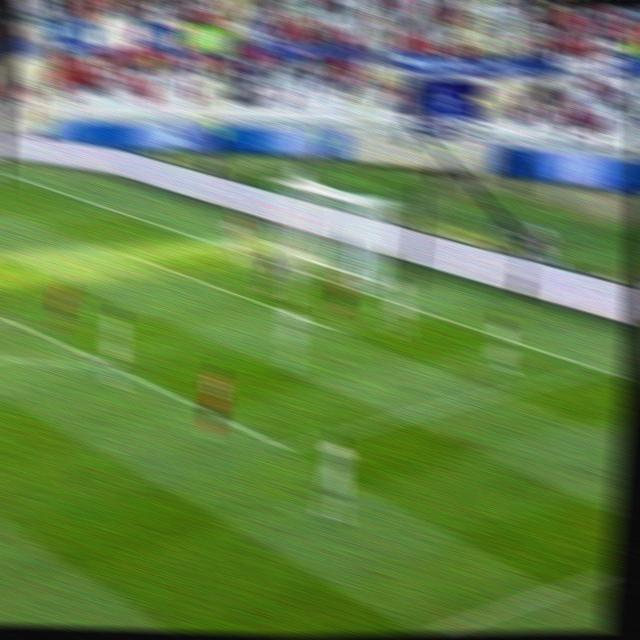bigarea_bottom_inner: (273, 436, 298, 458)
bigarea_top_inner: (588, 359, 611, 378)
bigarea_top_outter: (103, 203, 119, 213)
bottom_arc_area_intersection: (93, 355, 120, 375)
corner: (0, 167, 14, 177)
smallarea_bottom_inner: (330, 323, 352, 340)
smallarea_bottom_outter: (417, 307, 432, 318)
smallarea_top_outter: (204, 235, 219, 245)
